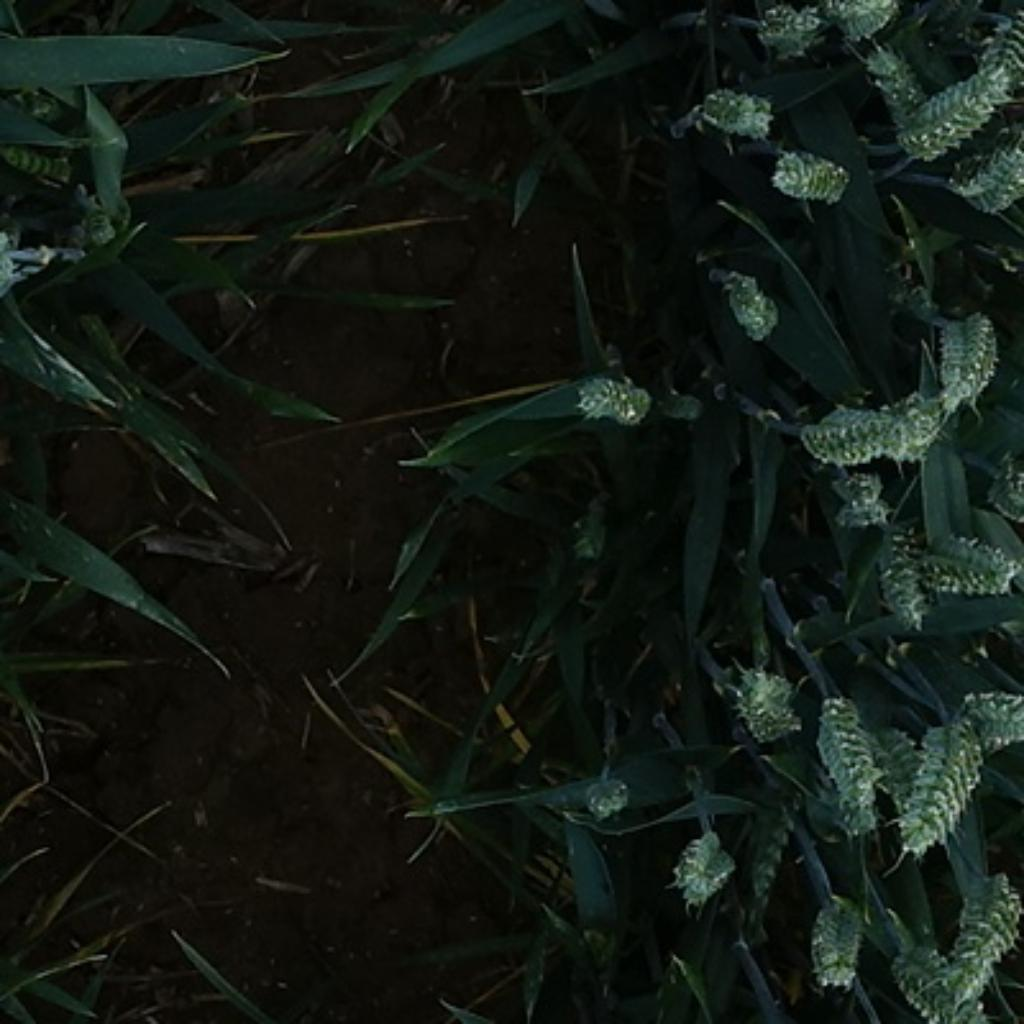0-0: (888, 688, 1000, 862), (880, 51, 1024, 181), (788, 391, 949, 468), (847, 719, 954, 829), (942, 860, 1024, 990), (811, 686, 880, 834), (908, 519, 1024, 593), (926, 302, 1006, 407), (865, 527, 947, 619), (898, 939, 985, 1024), (798, 888, 870, 988), (706, 256, 785, 343), (558, 360, 660, 427), (745, 786, 801, 903), (724, 657, 803, 739), (862, 48, 936, 135), (760, 138, 857, 204), (670, 819, 742, 906), (946, 142, 1024, 221), (688, 76, 778, 138), (952, 683, 1024, 757), (811, 473, 903, 529), (750, 0, 834, 58), (564, 478, 621, 562), (1, 138, 88, 183), (975, 10, 1024, 87), (970, 455, 1024, 524), (833, 0, 909, 49), (568, 770, 632, 816)
